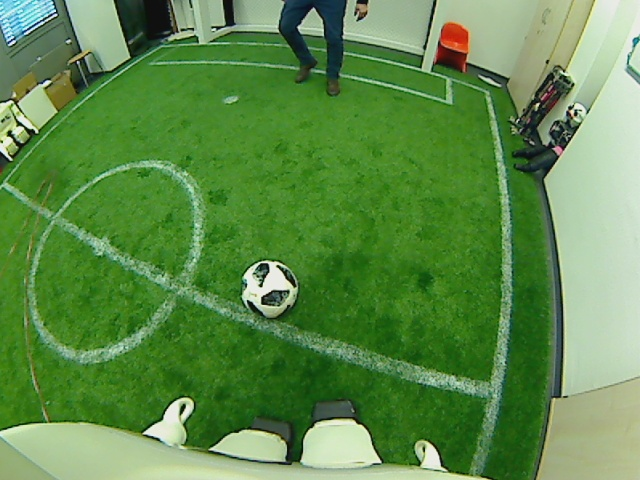ball: (240, 257, 301, 321)
